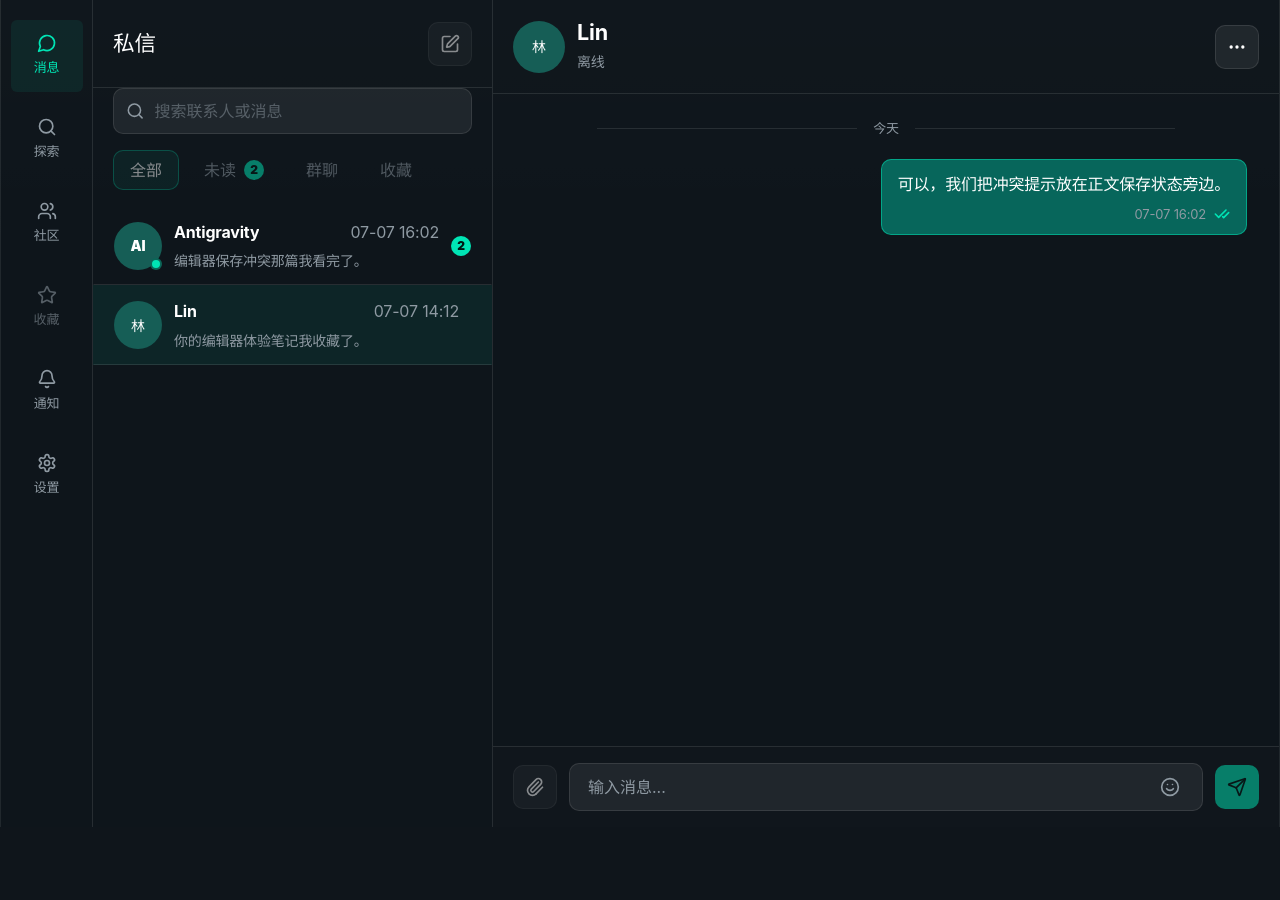
Test case: HomeMessageDetailRoutePage › opens the emoji picker and inserts an emoji into the draft
Click the button named "选择表情".
click(1170, 787)  # box [1154,771,1186,803]
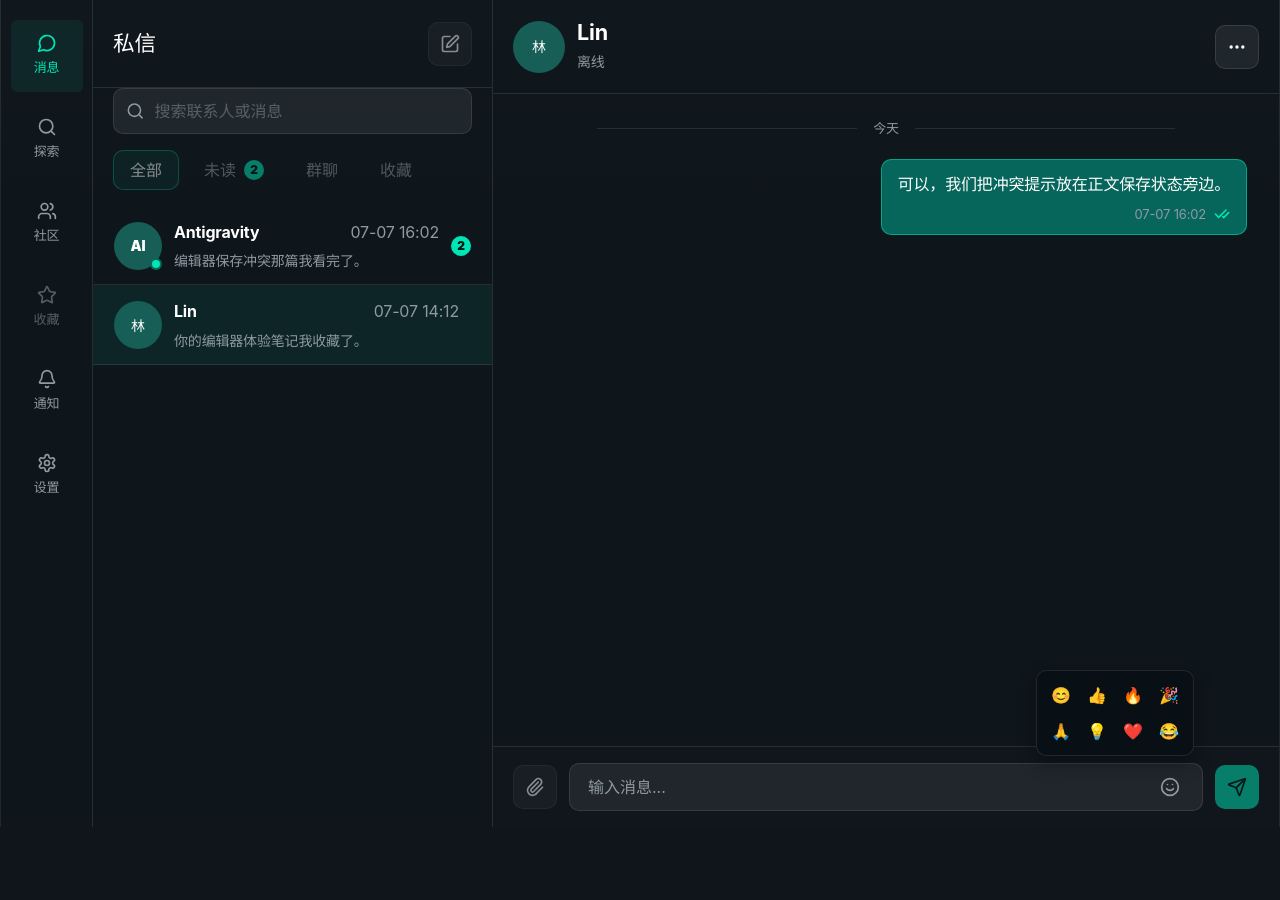
Expected: the menu named "表情" shows "😊"
Click the menu item named "插入 😊".
click(1061, 695)  # box [1045,679,1077,711]
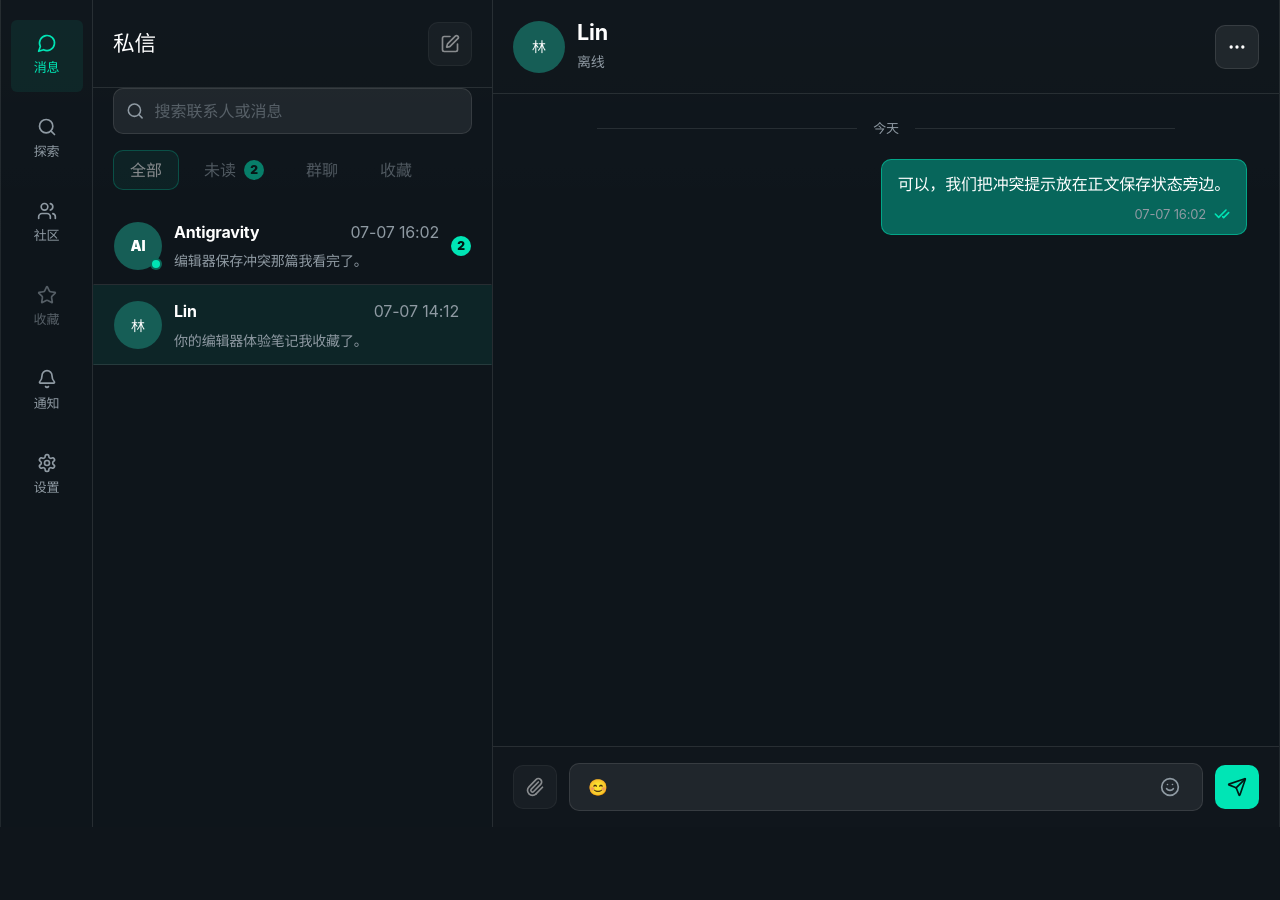
Expected: the field named "消息输入" holds "😊", [586,773,1142,801]
